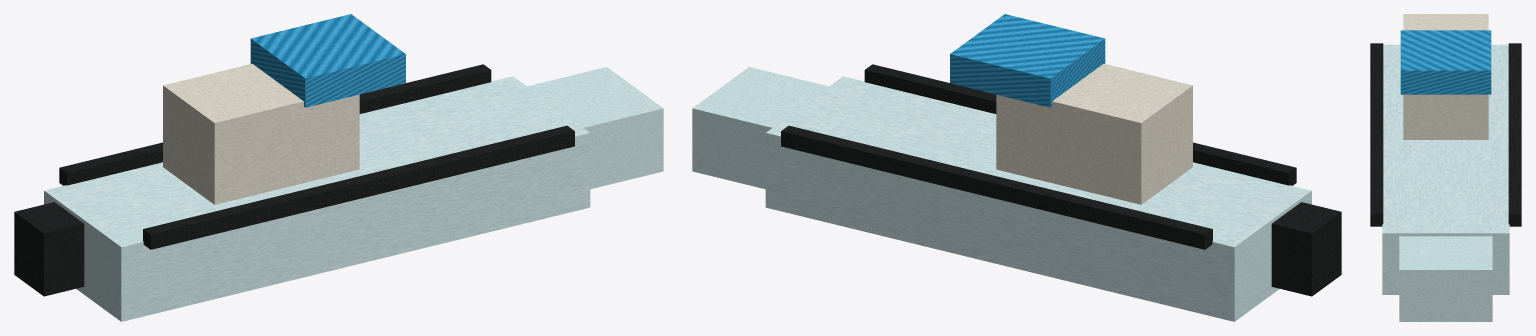
File: private_boat_optimized.gltf
The picture shows the model from 3 angles, left to right: view 1: azimuth 30°, elevation 25°; view 2: azimuth 150°, elevation 25°; view 3: azimuth 270°, elevation 25°; orthographic projection. The views are drawn at different scales.
Parts seen in each view (by area): view 1: private_boat_optimized; view 2: private_boat_optimized; view 3: private_boat_optimized.
Boxes of the visible parts, x1=… form: private_boat_optimized: x1=14, y1=14, x2=663, y2=321; private_boat_optimized: x1=692, y1=14, x2=1341, y2=321; private_boat_optimized: x1=1370, y1=14, x2=1521, y2=321.
Bounding box in the file's own units: 54.3 × 16.05 × 14.2.
4 materials, 4 textured.
